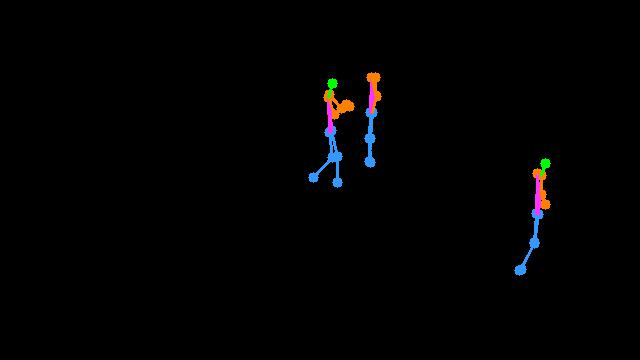normal: (294, 57, 407, 196)
